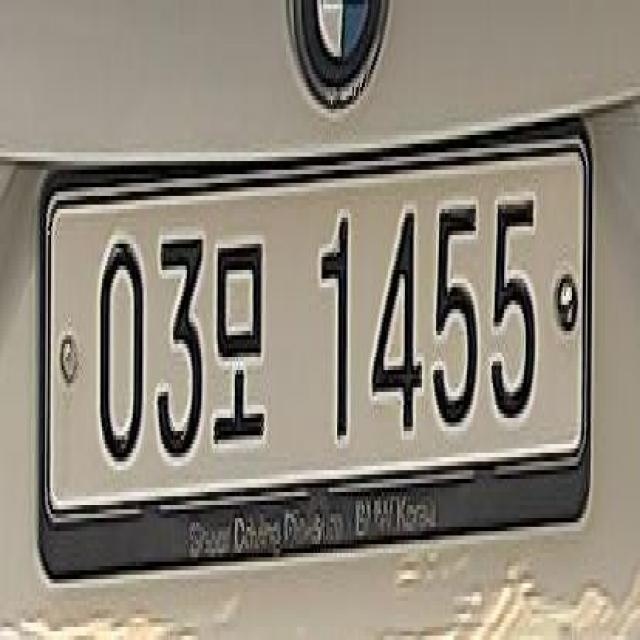illegal_plate: (36, 128, 610, 583)
